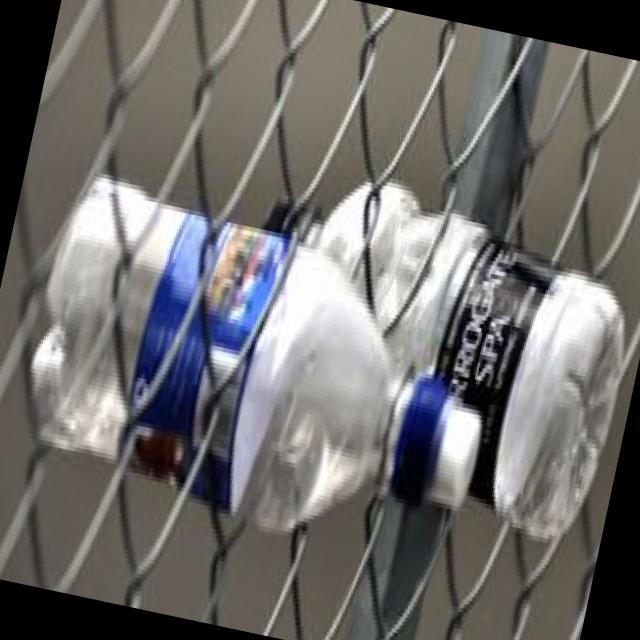general: (2, 162, 430, 552), (263, 161, 640, 551)
